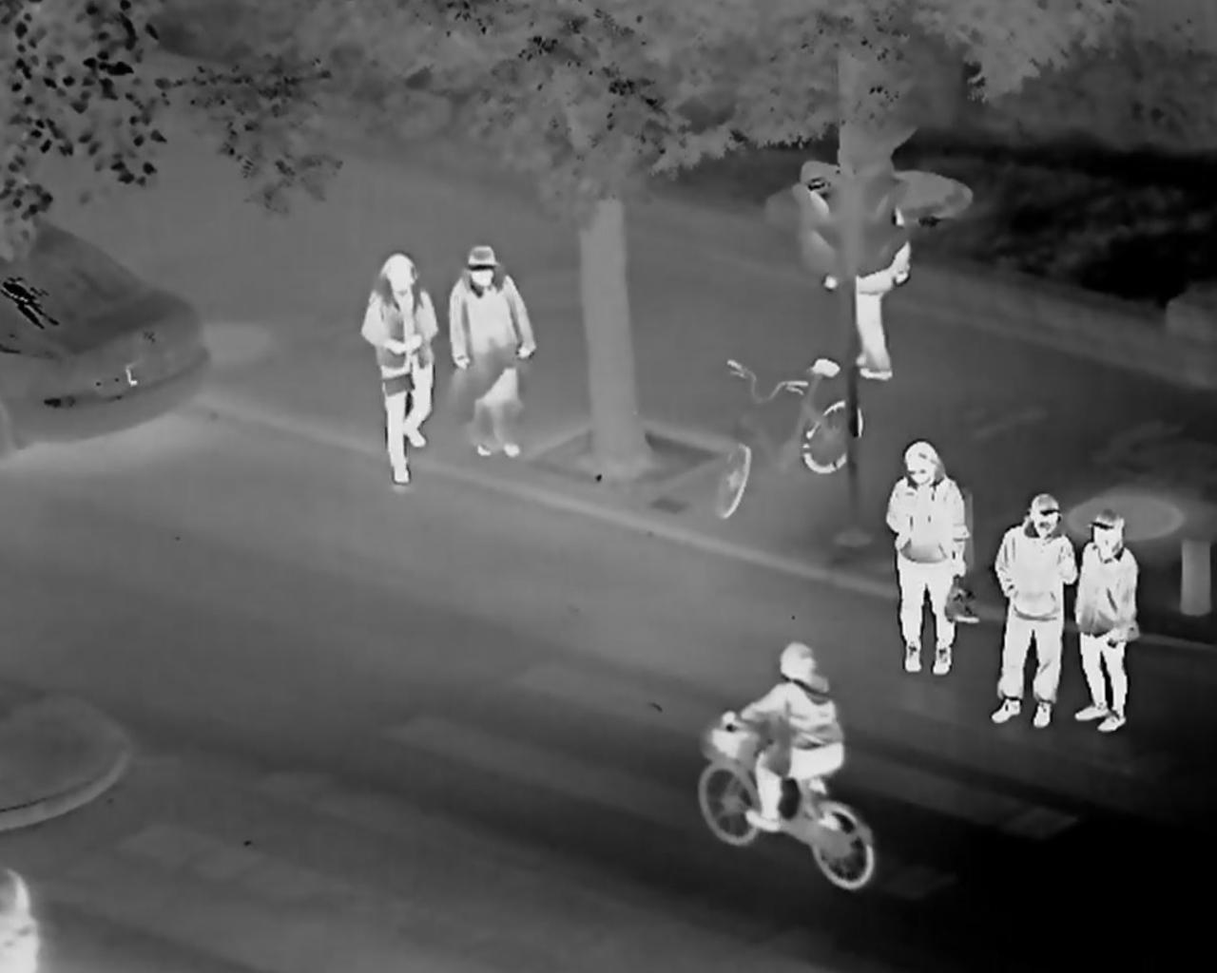person: (736, 640, 847, 851), (887, 441, 976, 680), (445, 243, 533, 459), (831, 156, 913, 377), (361, 253, 439, 484), (993, 491, 1068, 726), (1071, 505, 1137, 734)
